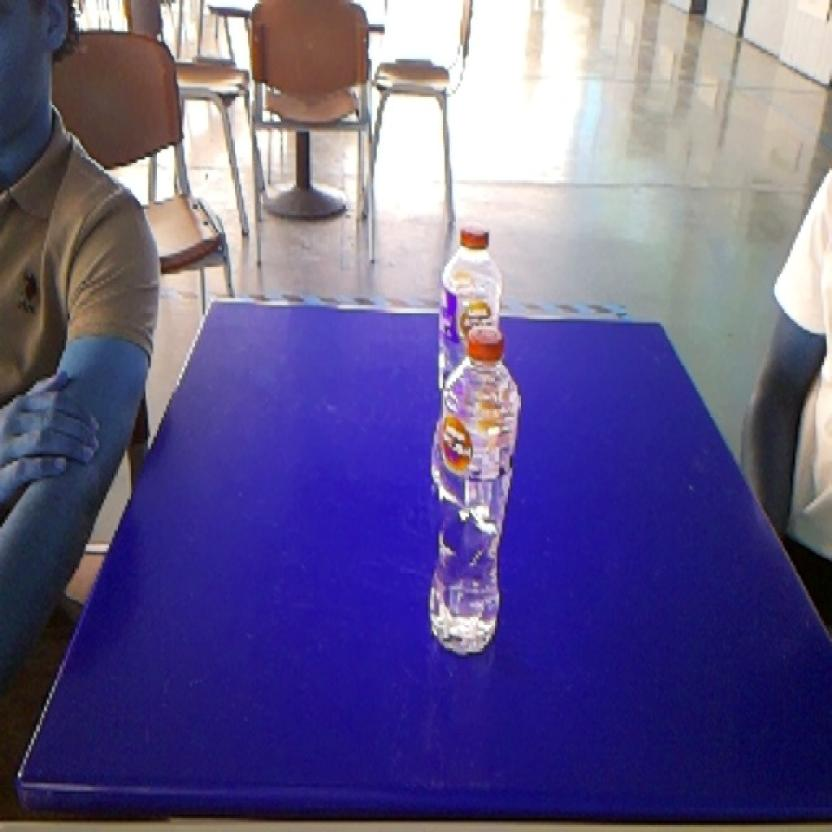good: (420, 317, 523, 663), (429, 209, 513, 330)
